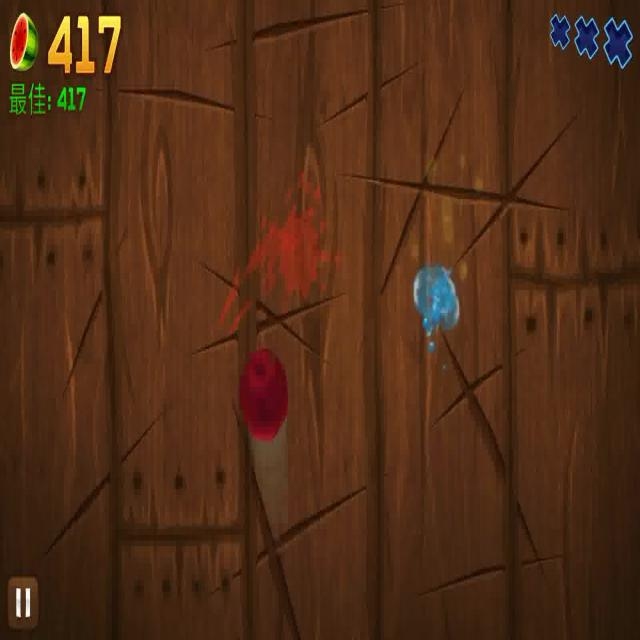fruit: (240, 345, 289, 444)
